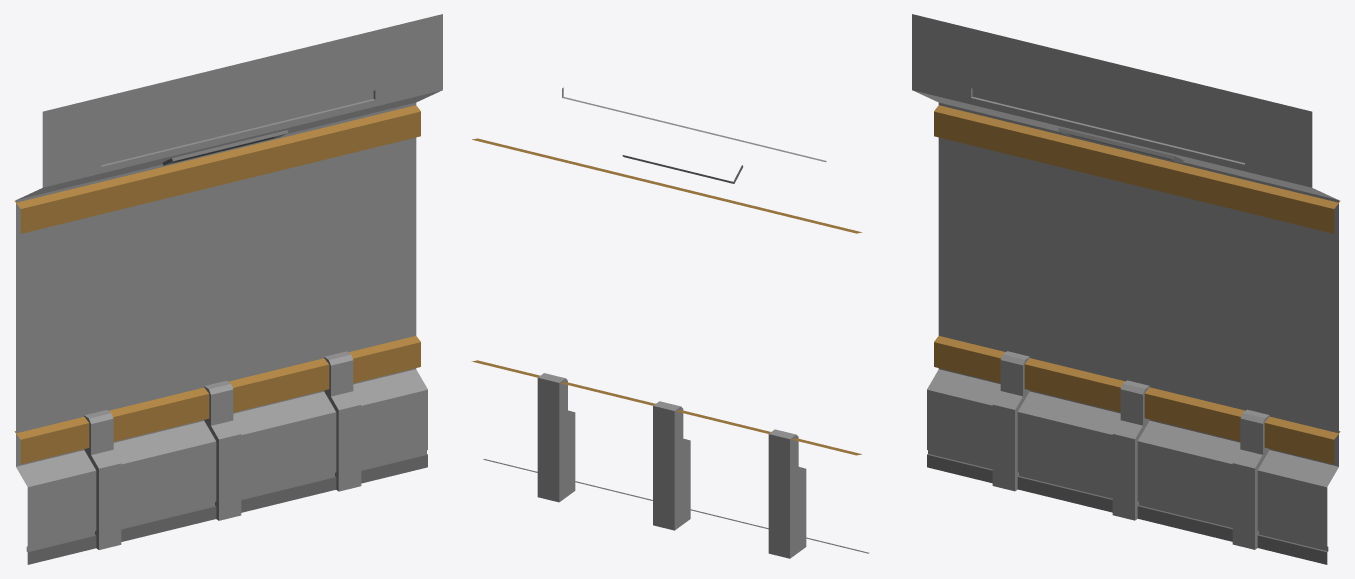
Rendered from Wall_Empty.glb.
3 renders of one model, left to right at view 1: azimuth 30°, elevation 25°; view 2: azimuth 150°, elevation 25°; view 3: azimuth 330°, elevation 25°, orthographic. The views are drawn at different scales.
Parts seen in each view (by area): view 1: Wall_Empty; view 2: Wall_Empty; view 3: Wall_Empty.
Boxes of the visible parts, <box> form: Wall_Empty: <box>14,14,442,564</box>; Wall_Empty: <box>471,87,869,558</box>; Wall_Empty: <box>912,14,1340,564</box>.
Size of the model in its own units: 4 by 4.43 by 0.4991.
